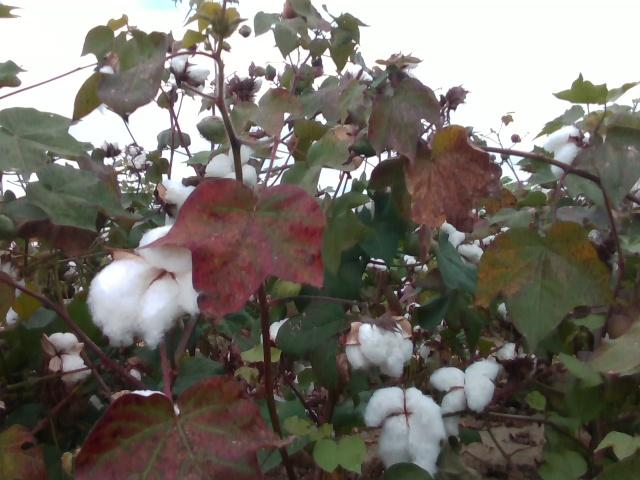cotton_ready: (87, 224, 201, 348), (366, 389, 446, 471), (346, 324, 416, 376), (433, 360, 501, 412), (44, 330, 91, 384), (171, 48, 210, 97)
